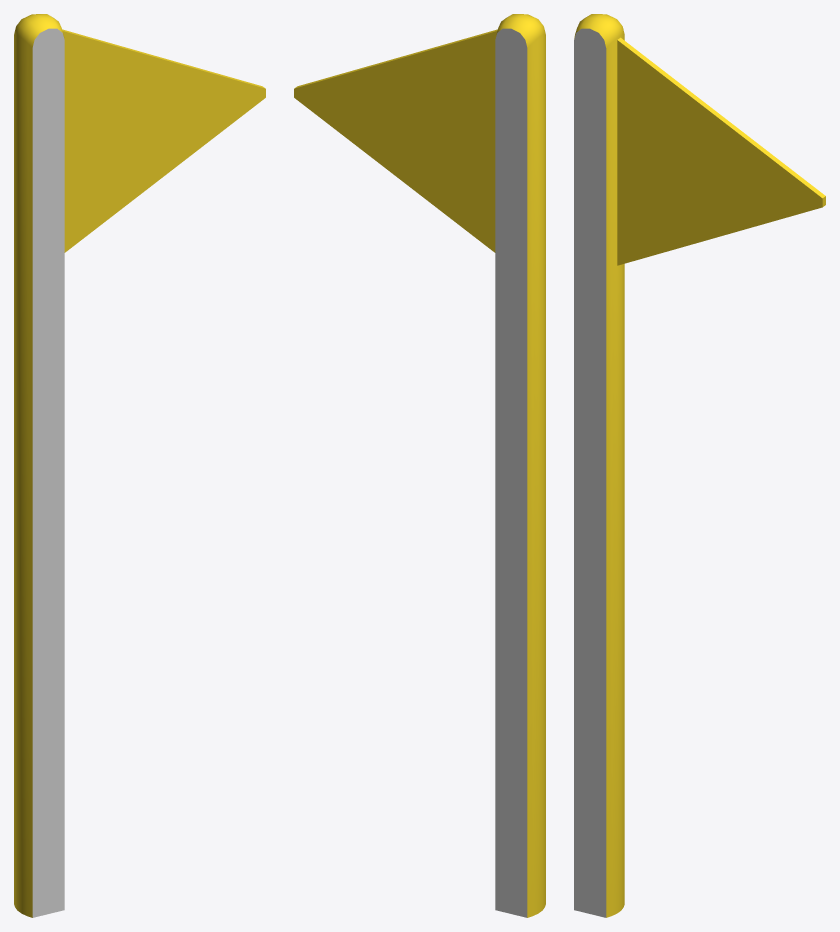
File: Flag Yellow.fbx
3 renders of one model, left to right at view 1: azimuth 30°, elevation 25°; view 2: azimuth 150°, elevation 25°; view 3: azimuth 330°, elevation 25°, orthographic.
Parts seen in each view (by area): view 1: Flag Yellow; view 2: Flag Yellow; view 3: Flag Yellow.
Boxes of the visible parts, x1=… form: Flag Yellow: x1=14, y1=14, x2=265, y2=917; Flag Yellow: x1=294, y1=14, x2=545, y2=917; Flag Yellow: x1=574, y1=14, x2=825, y2=917.
Size of the model in its own units: 53.38 by 186 by 7.
